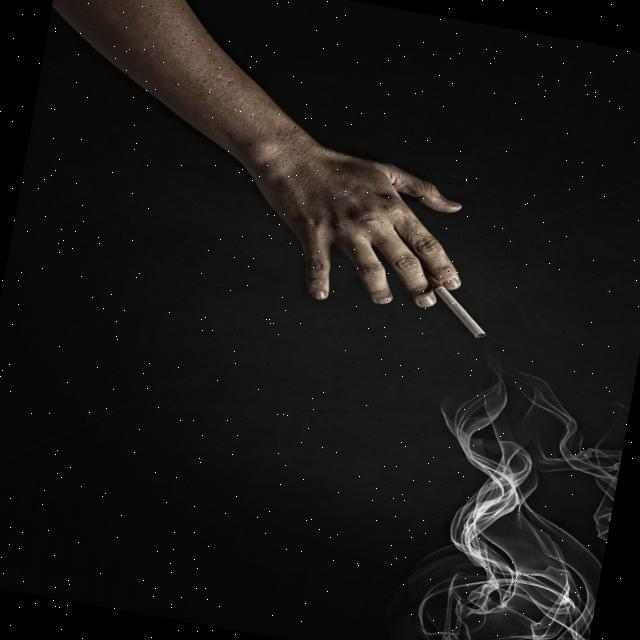cigarette: (413, 276, 497, 341)
